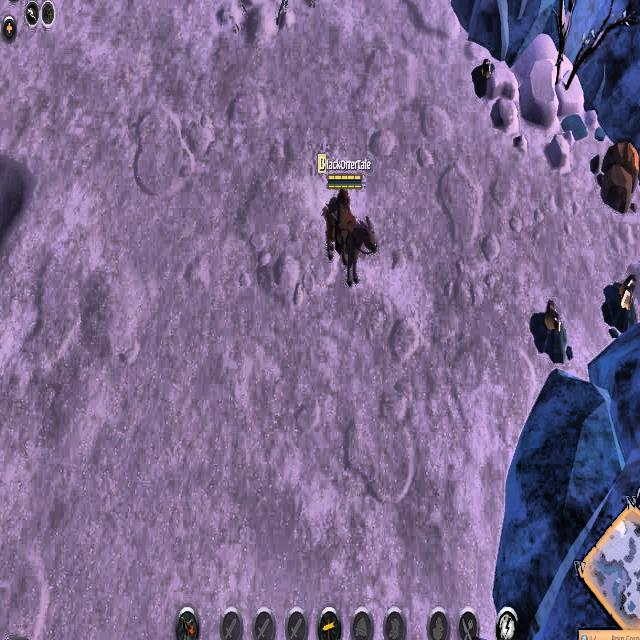copperore: (532, 292, 569, 359), (602, 270, 640, 332), (468, 57, 499, 95)
limestone: (594, 137, 640, 210)
